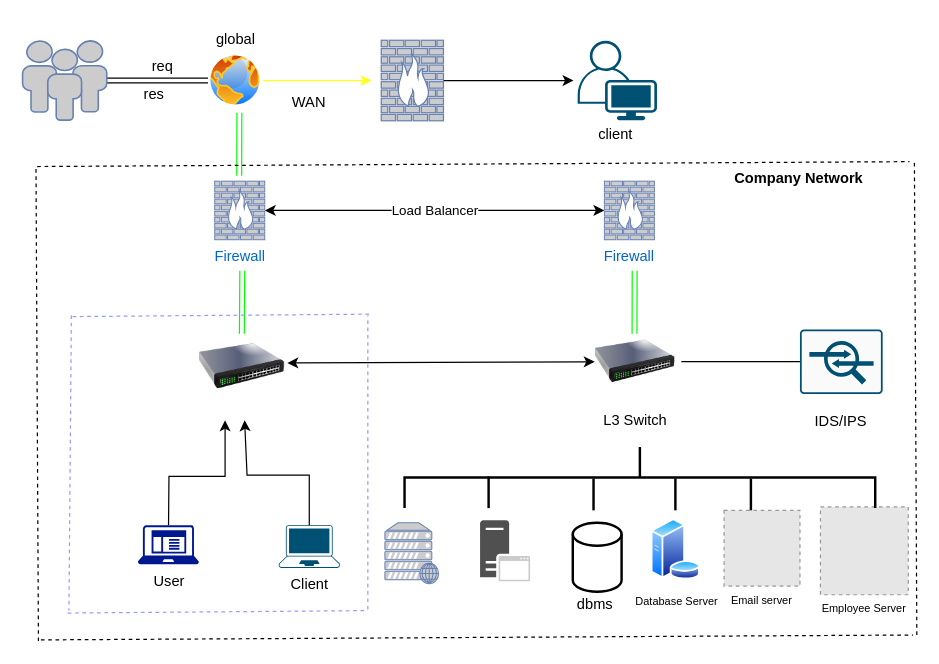
The diagram is 939 pixels wide and 664 high, and some of its shapes have lost their labels. Grey dashed boxes stand in for pictures. Each missing label, with the centre of its shape:
"Application Server" goes at (504,550).
"Customers" goes at (64,80).
"Netowrk Switch" goes at (241,366).
"Web Server" goes at (411,552).
